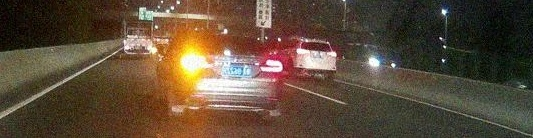L_light: (178, 54, 213, 71), (295, 48, 309, 55)
R_light: (258, 59, 284, 73), (326, 51, 336, 57)
T_light: (218, 34, 234, 40), (312, 42, 320, 44)
night-left: (169, 31, 285, 121)
night-no: (293, 38, 337, 78)
